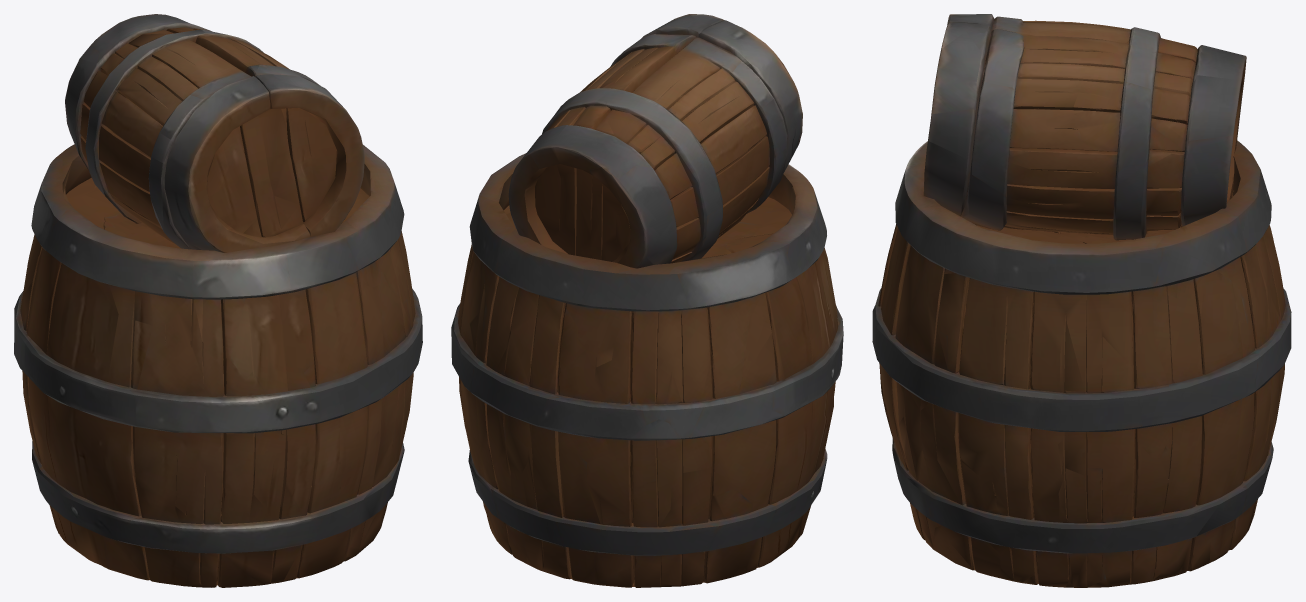
The picture shows the model from 3 angles, left to right: view 1: azimuth 30°, elevation 25°; view 2: azimuth 150°, elevation 25°; view 3: azimuth 270°, elevation 25°; orthographic projection. The views are drawn at different scales.
Visible parts, largest first — view 1: model; view 2: model; view 3: model.
Boxes of the visible parts, left/top/right/bottom form: model: left=14, top=14, right=422, bottom=587; model: left=451, top=14, right=843, bottom=587; model: left=872, top=14, right=1291, bottom=587.
Bounding box in the file's own units: 1.48 × 1.9 × 1.47.
Materials: 1 (1 with a texture image).
